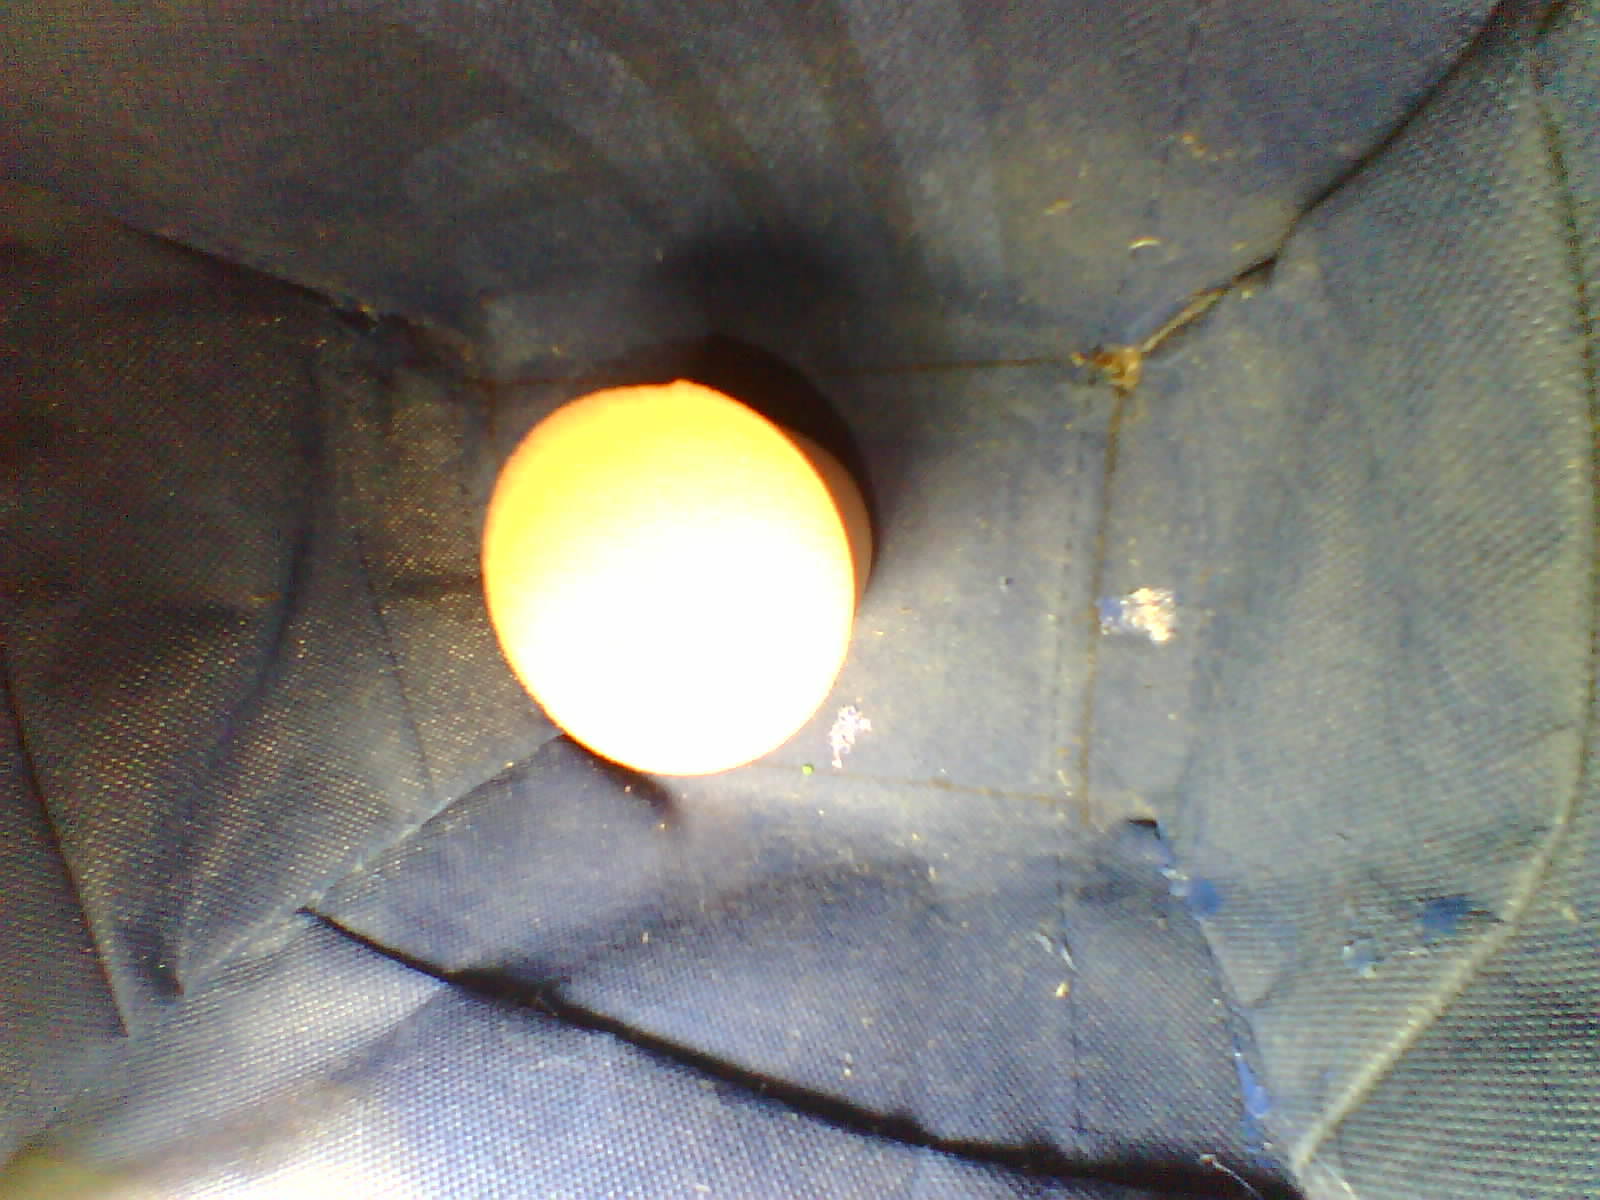cylinder-soft: (465, 372, 891, 787)
